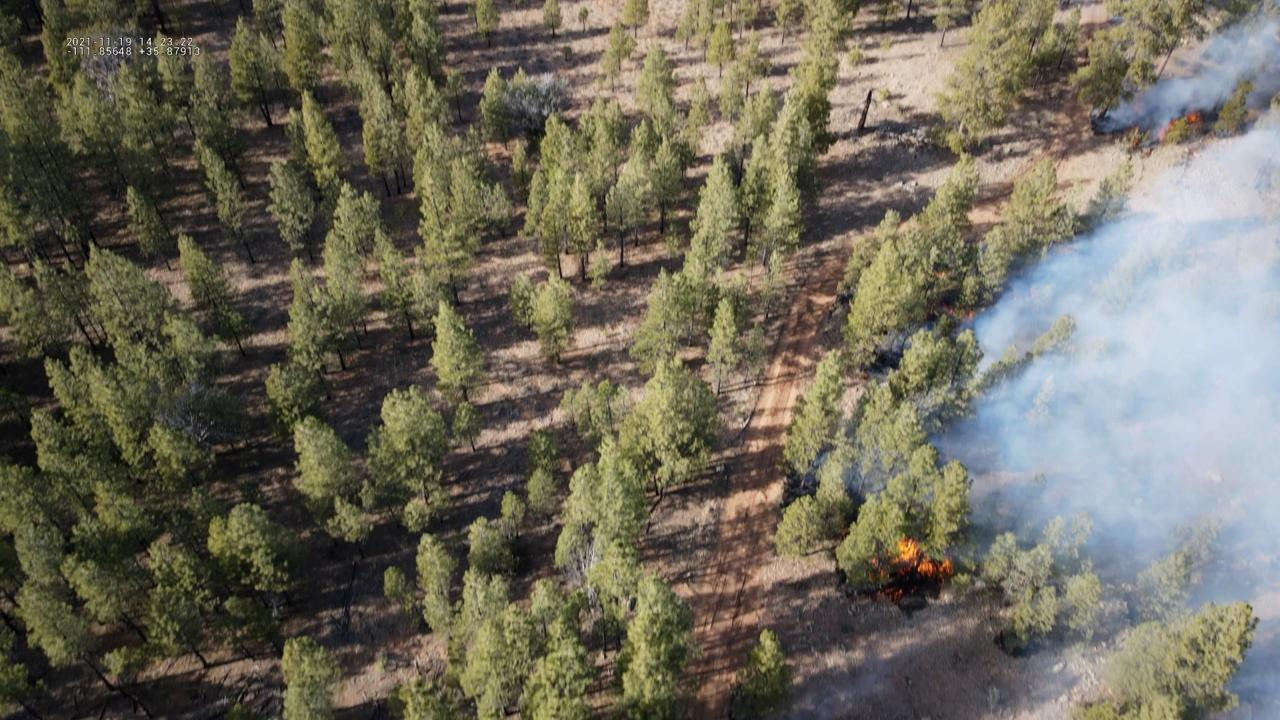fire: (866, 539, 955, 603), (1157, 113, 1198, 145), (942, 302, 955, 317), (966, 310, 976, 325)
smoke: (796, 0, 1280, 720)
